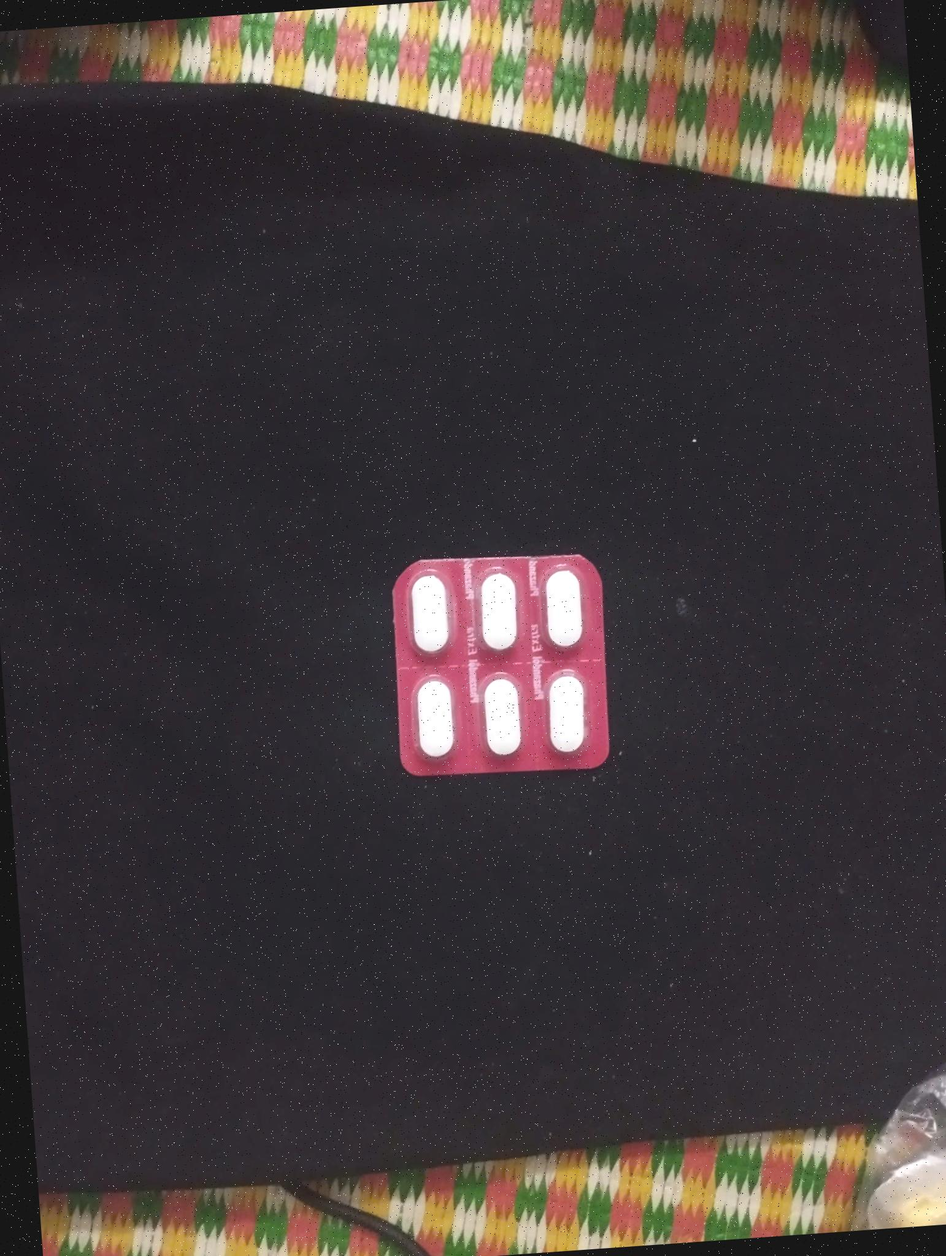Full: (402, 569, 455, 662), (407, 675, 461, 766), (469, 571, 526, 657), (537, 668, 592, 757), (539, 559, 590, 653), (476, 669, 526, 763)
